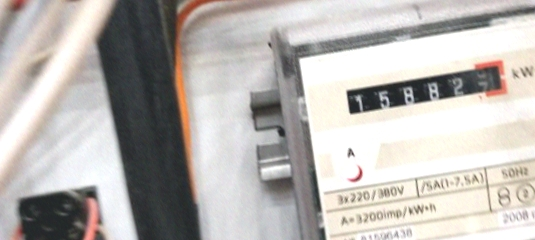1: (351, 92, 363, 112)
2: (449, 75, 464, 96)
5: (373, 88, 390, 109)
7: (474, 78, 487, 92)
8: (423, 79, 439, 101), (400, 83, 415, 105)
screen: (338, 57, 511, 122)
